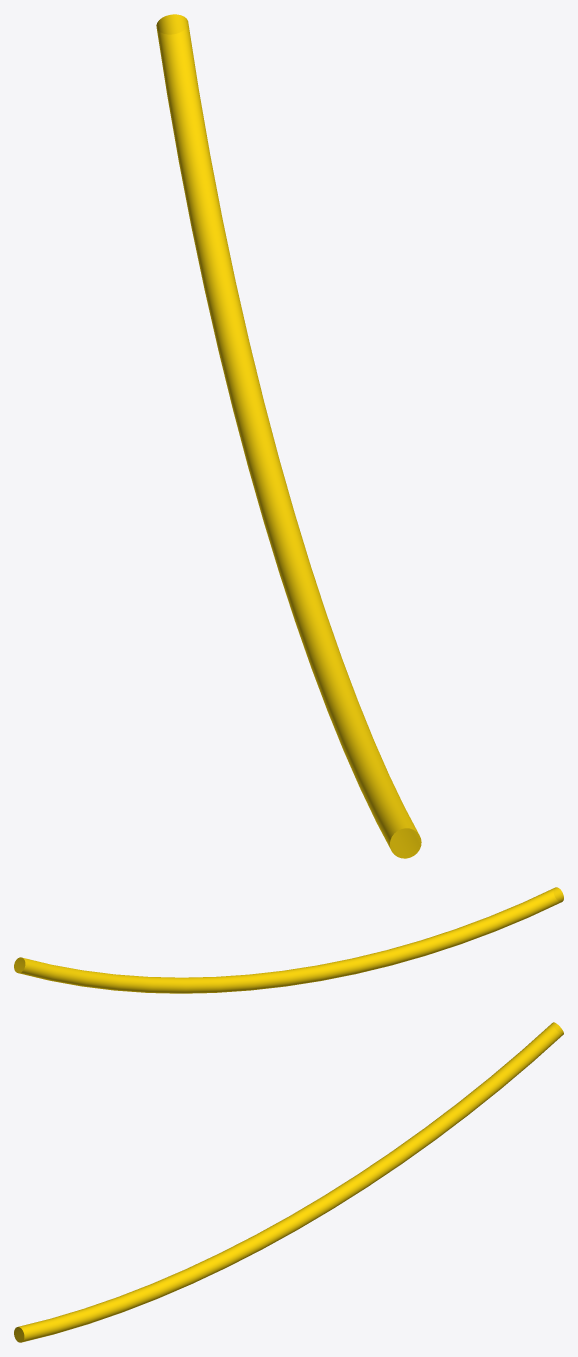
File: Event_421364160_track_32.fbx
3 renders of one model, top to bottom at view 1: azimuth 30°, elevation 25°; view 2: azimuth 150°, elevation 25°; view 3: azimuth 330°, elevation 25°, orthographic. The views are drawn at different scales.
Visible parts, largest first — view 1: Model; view 2: Model; view 3: Model.
Boxes of the visible parts, x1=… form: Model: x1=156, y1=14, x2=421, y2=858; Model: x1=14, y1=887, x2=563, y2=993; Model: x1=14, y1=1022, x2=563, y2=1342.
Size of the model in its own units: 0.6419 by 0.3767 by 1.64.
